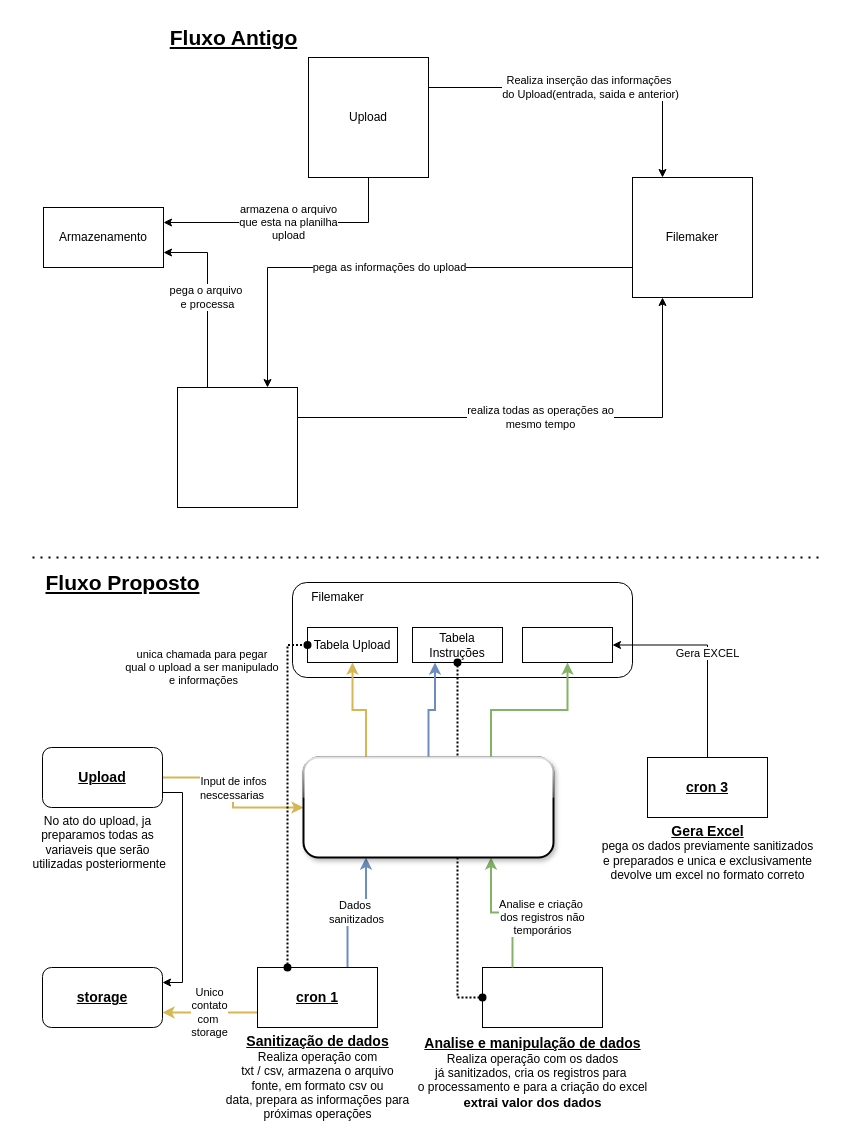
Image size: 841x1144. Some labels were removed from this diagram. Each missing label, with the centre of its shape:
cron 2: point (542, 997)
Fila endpoints RabbitMQ/BullMQ que controlam o fluxo de agressão ao filemaker: point (429, 808)
Importador: point (237, 447)
Tabela Controle de carga: point (567, 644)
